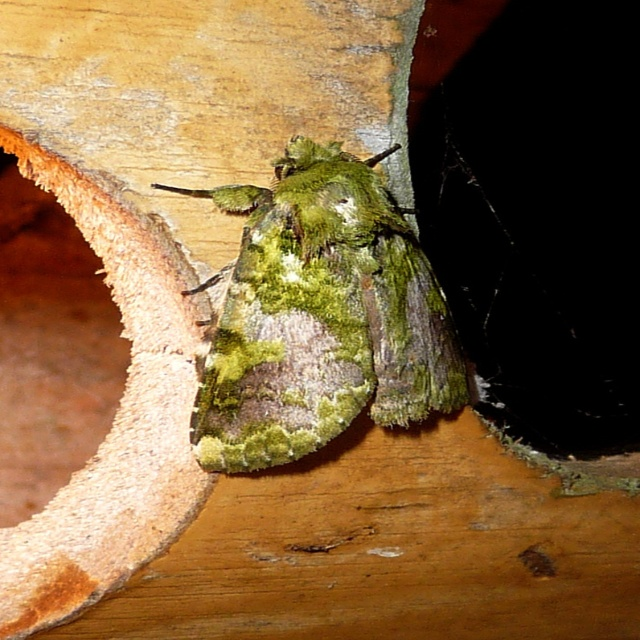Moths and butterflies: (146, 131, 480, 478)
